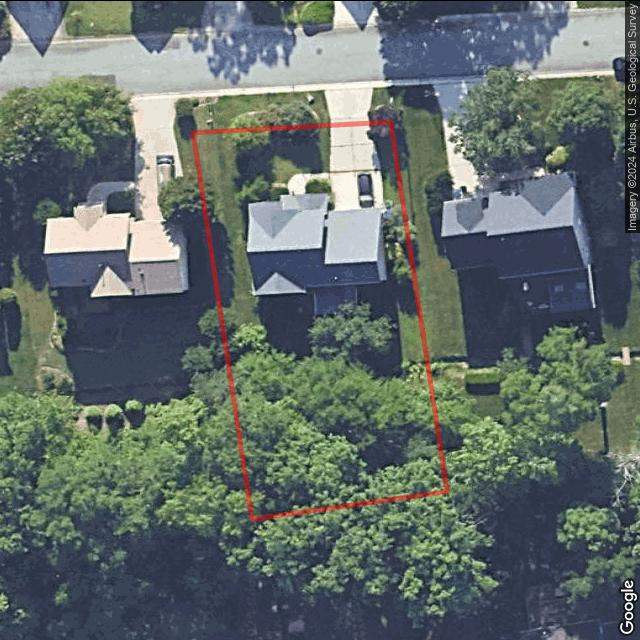Driveway: (329, 123, 383, 210)
Extra-Driveway: (324, 89, 373, 124)
Extra-Lawn: (189, 90, 330, 133), (368, 86, 390, 123)
House: (246, 193, 387, 293)
Lawn: (193, 122, 446, 518)
Other: (230, 364, 448, 517), (306, 284, 358, 318)
Sidewalk: (287, 171, 329, 193)
